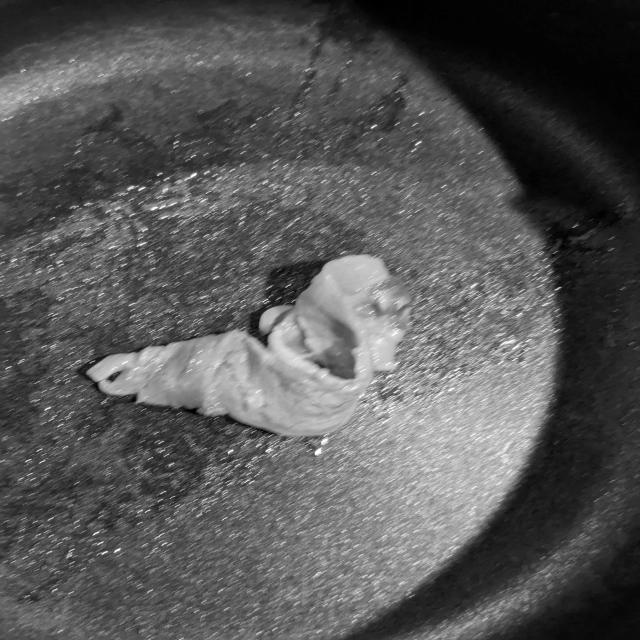NG undercooked beef,: (75, 241, 419, 449)
